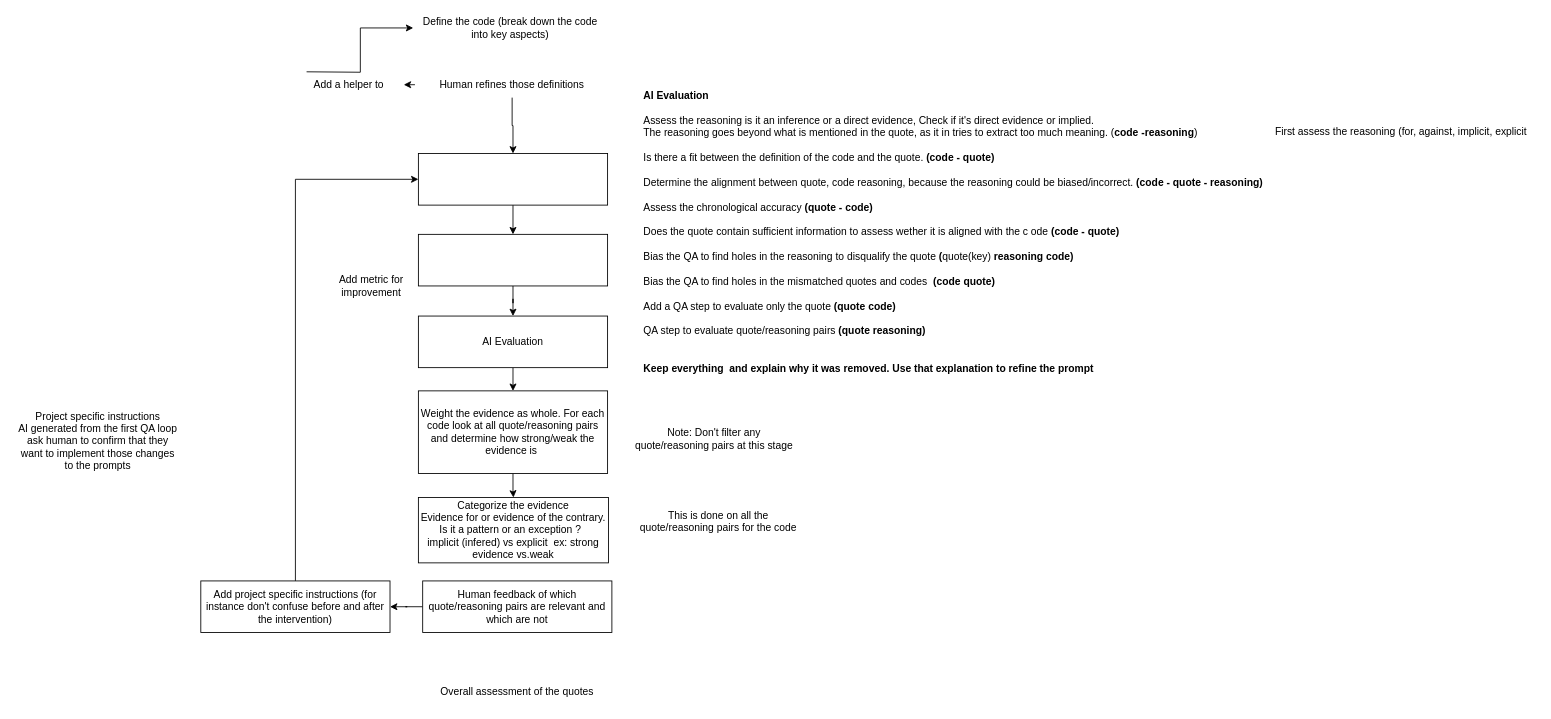
The diagram is 1551 pixels wide and 719 high, and some of its shapes have lost their labels. The shapes that lost their labels are listed below. From the top down, each one's box as (x1, y1, x2, y2) in pixels, then its label:
(418, 153, 608, 205): Extract Quote-reasoning pairs based on the code Coding_agent_prompt_QA_lvl1
(418, 233, 608, 286): Check your work
